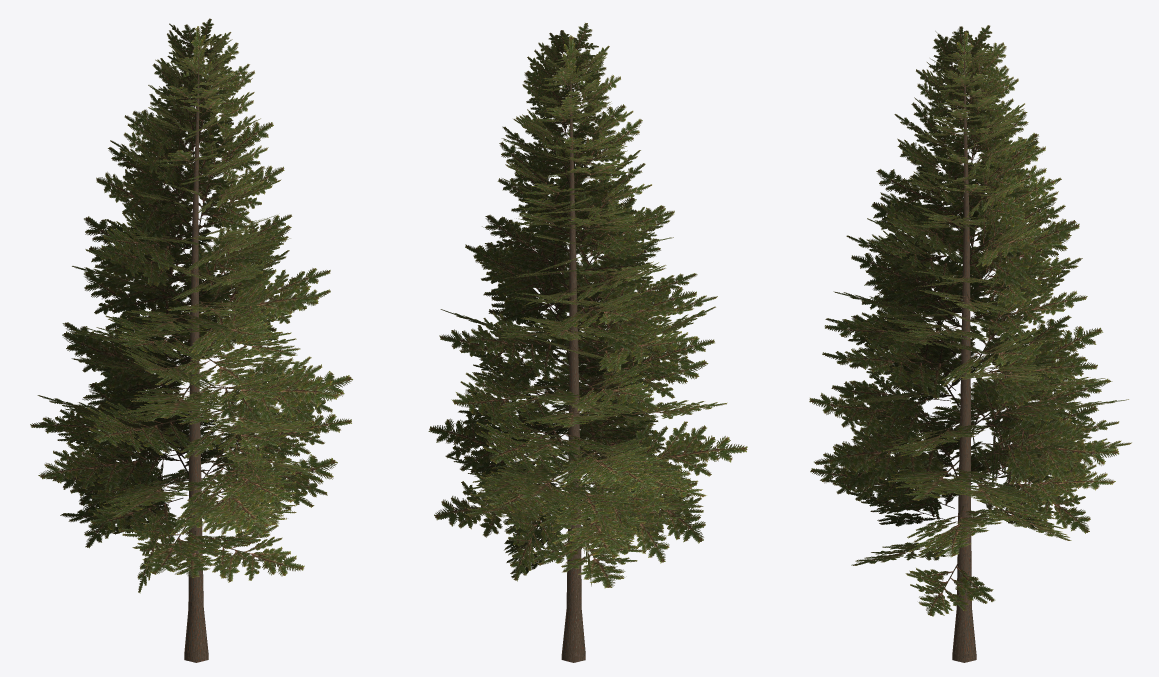
File: fir_medium_a_lod3.gltf
3 renders of one model, left to right at view 1: azimuth 30°, elevation 25°; view 2: azimuth 150°, elevation 25°; view 3: azimuth 270°, elevation 25°, orthographic.
Visible parts, largest first — view 1: fir_medium_a_LOD3; view 2: fir_medium_a_LOD3; view 3: fir_medium_a_LOD3.
Boxes of the visible parts, <box> form: fir_medium_a_LOD3: <box>30,18,352,662</box>; fir_medium_a_LOD3: <box>428,23,747,662</box>; fir_medium_a_LOD3: <box>809,25,1131,662</box>.
Size of the model in its own units: 10.68 by 20.53 by 10.41.
Materials: 2 (2 with a texture image).
